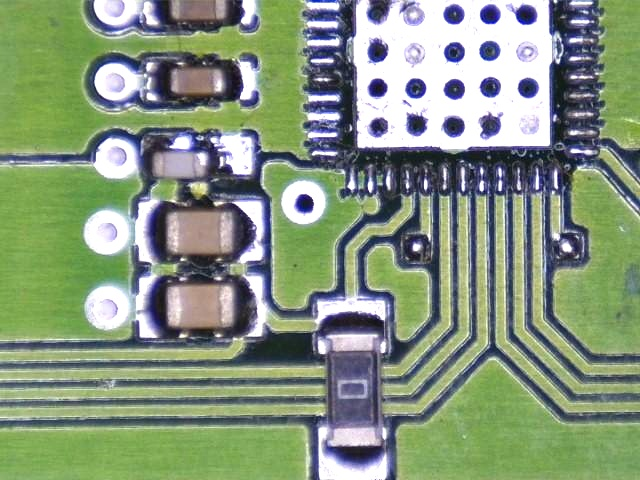pcb_defect: (139, 133, 254, 179)
